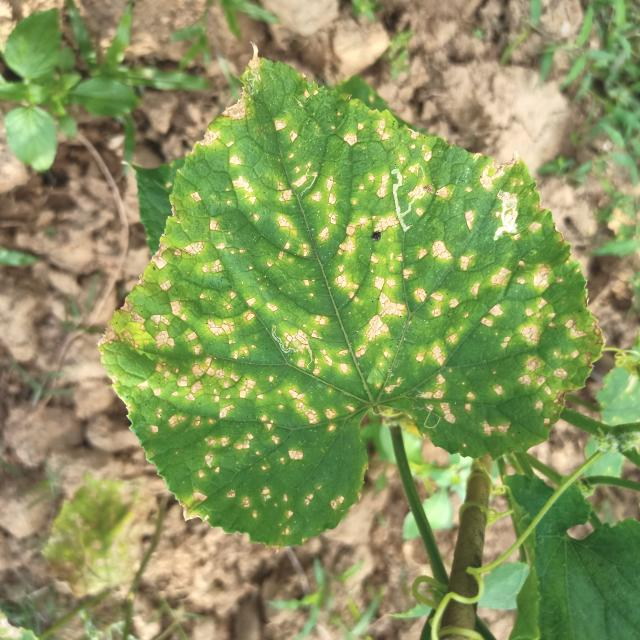disease_cucumber: (119, 86, 549, 510)
